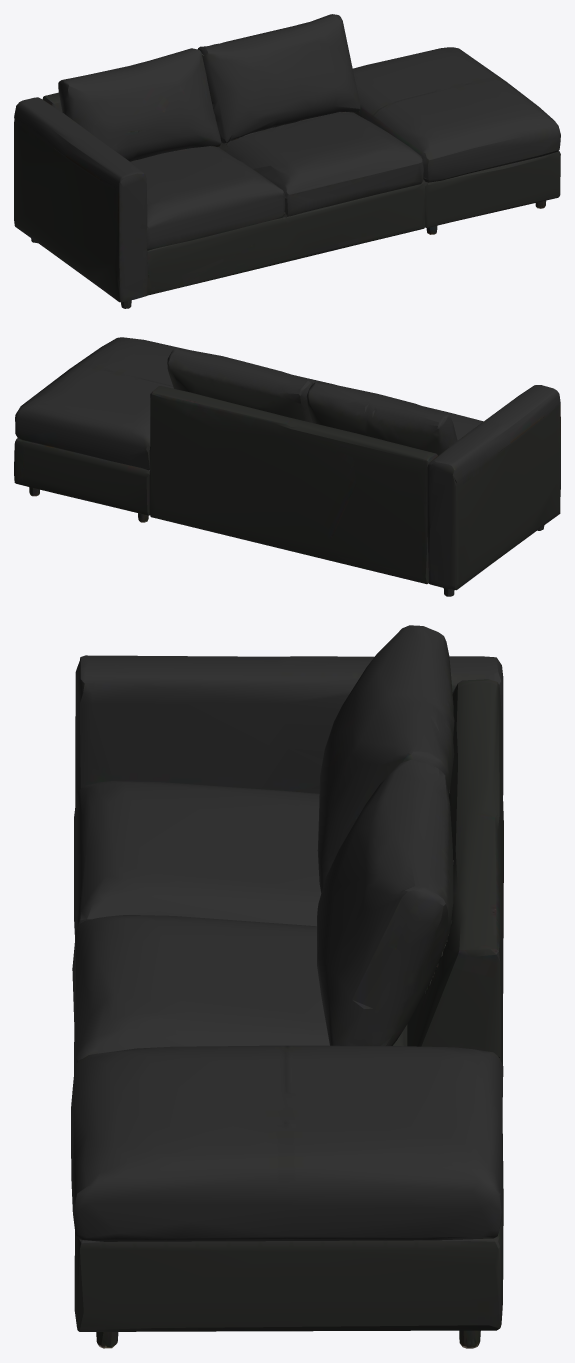
3 renders of one model, top to bottom at view 1: azimuth 30°, elevation 25°; view 2: azimuth 150°, elevation 25°; view 3: azimuth 270°, elevation 25°, orthographic. The views are drawn at different scales.
Parts seen in each view (by area): view 1: ProcessedMeshNode; view 2: ProcessedMeshNode; view 3: ProcessedMeshNode.
Boxes of the visible parts, x1,y1,x2,y2 form: ProcessedMeshNode: [14, 14, 560, 308]; ProcessedMeshNode: [14, 337, 560, 596]; ProcessedMeshNode: [71, 625, 503, 1348].
Bounding box in the file's own units: 2.26 × 0.8076 × 0.9489.
2 materials, 2 textured.
